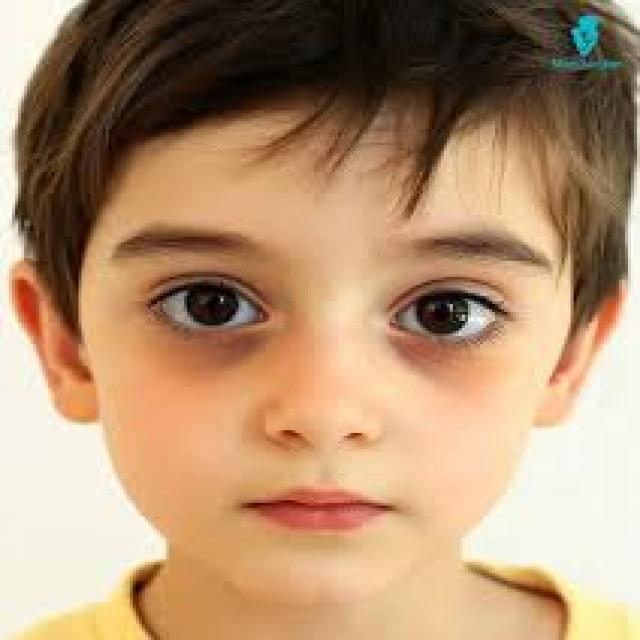low: (148, 330, 273, 369), (367, 338, 496, 369)
